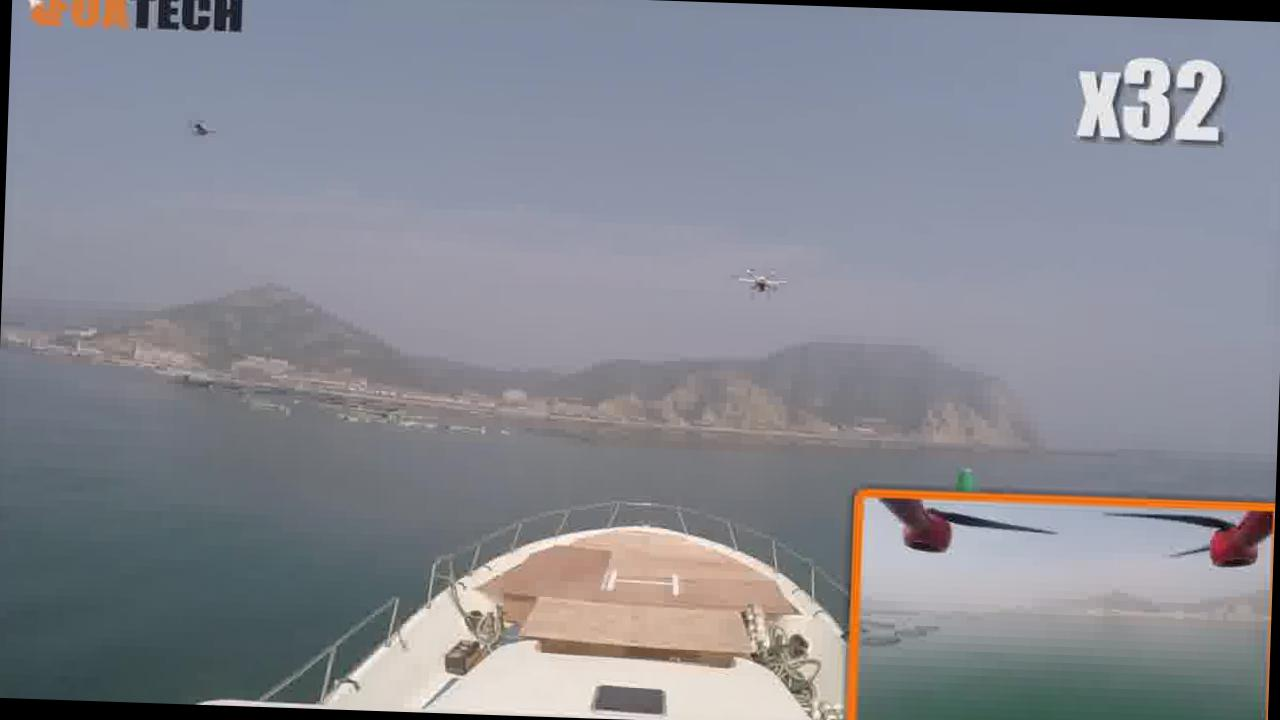drone: (715, 244, 806, 314)
